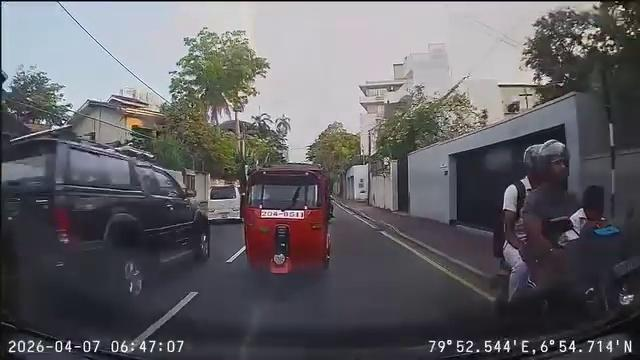no helmet: (581, 183, 612, 226)
number plate: (255, 202, 309, 224)
